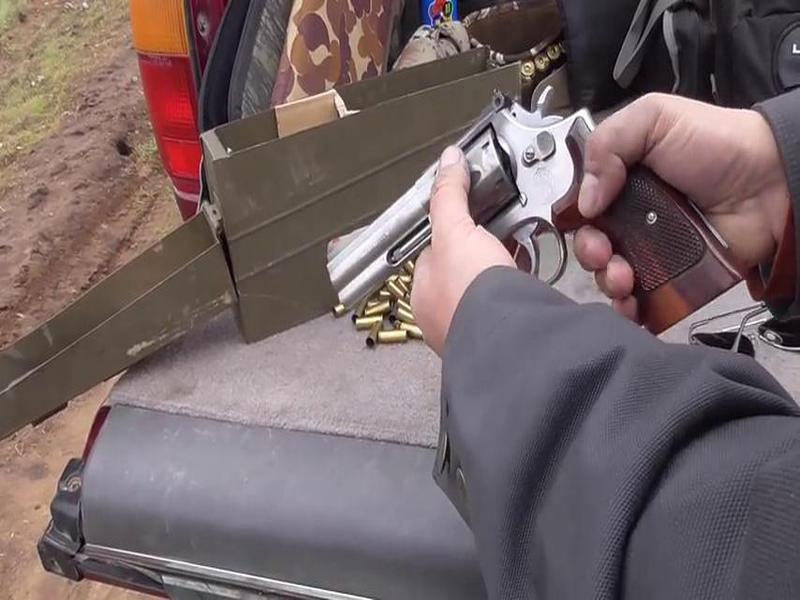Revolver: (257, 80, 798, 397)
